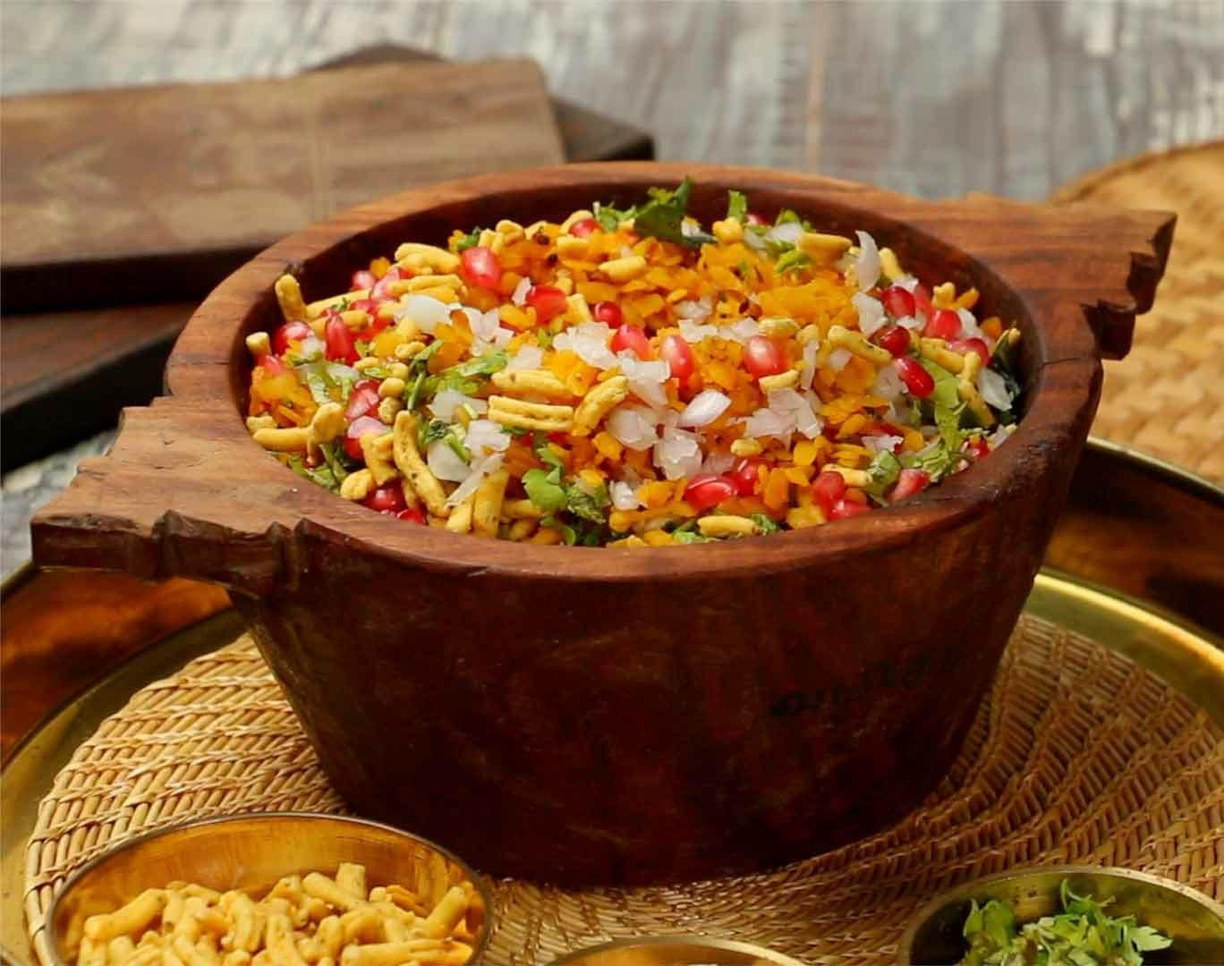Poha: (254, 186, 1031, 546)
